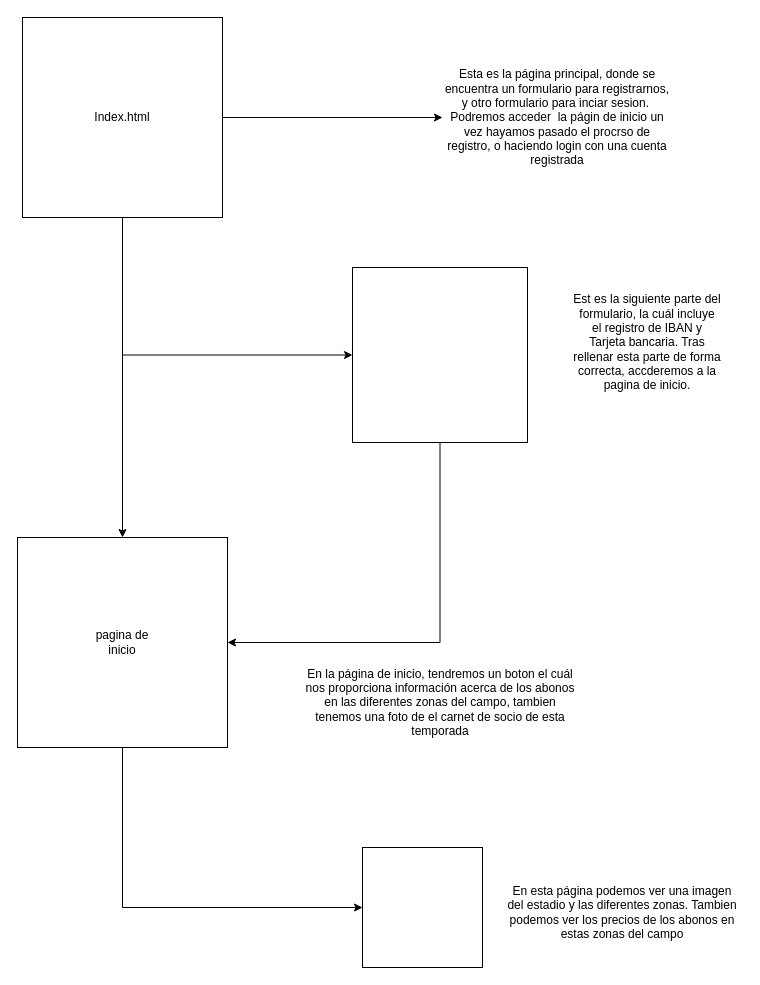
Image size: 760x985. Some labels were removed from this diagram. Here are the shapes that lost their labels. From the top down, the box of each, then its label:
(352, 266, 528, 442): formulario2
(362, 846, 482, 968): Estadio
